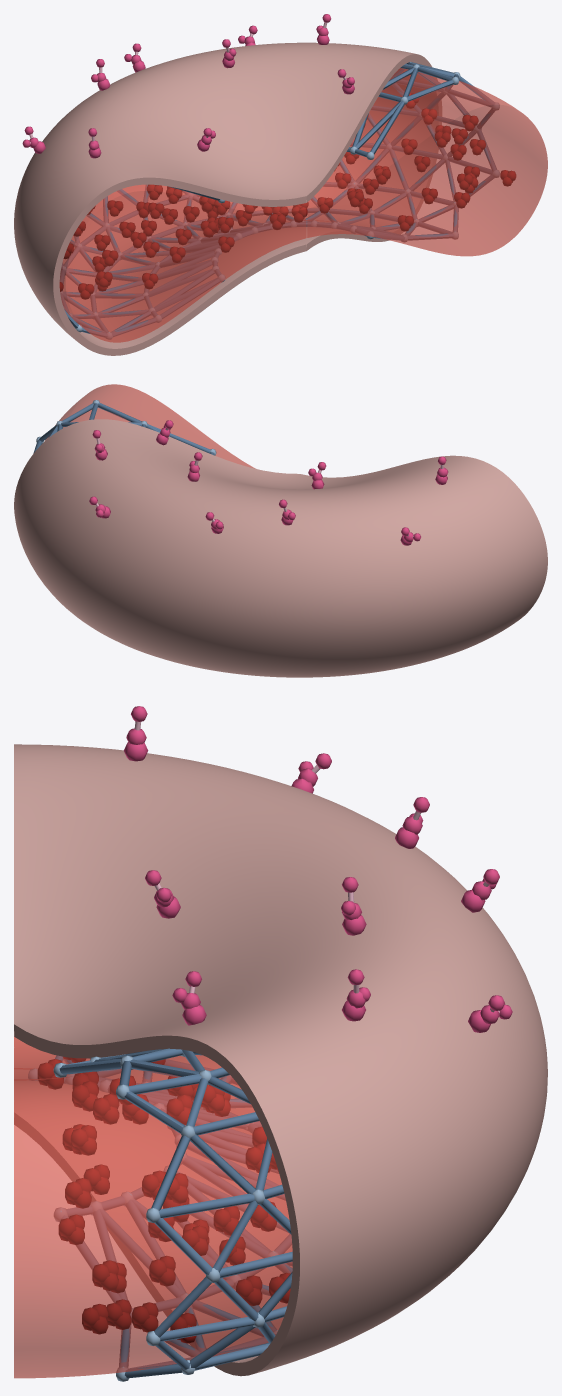
File: red-blood-cell.glb
3 views of the same model, one above another, from view 1: azimuth 30°, elevation 25°; view 2: azimuth 150°, elevation 25°; view 3: azimuth 270°, elevation 25° (orthographic). The views are drawn at different scales.
Parts seen in each view (by area): view 1: CellMembrane, Cytoplasm, MembraneSkeleton, HemoglobinMolecules, SurfaceAntigens; view 2: CellMembrane, Cytoplasm, SurfaceAntigens, MembraneSkeleton; view 3: CellMembrane, Cytoplasm, MembraneSkeleton, HemoglobinMolecules, SurfaceAntigens.
Part boxes in pixels (bbox=[...]): CellMembrane: bbox=[14, 42, 441, 355]; Cytoplasm: bbox=[59, 68, 547, 342]; MembraneSkeleton: bbox=[60, 62, 499, 339]; HemoglobinMolecules: bbox=[59, 93, 516, 299]; SurfaceAntigens: bbox=[22, 14, 354, 158]; CellMembrane: bbox=[14, 419, 547, 677]; Cytoplasm: bbox=[44, 384, 255, 468]; SurfaceAntigens: bbox=[89, 420, 448, 545]; MembraneSkeleton: bbox=[33, 400, 216, 455]; CellMembrane: bbox=[14, 744, 547, 1376]; Cytoplasm: bbox=[14, 1036, 292, 1378]; MembraneSkeleton: bbox=[28, 1048, 292, 1381]; HemoglobinMolecules: bbox=[37, 1056, 290, 1343]; SurfaceAntigens: bbox=[123, 706, 512, 1032].
Bounding box in the file's own units: 7.63 × 2.96 × 3.91.
